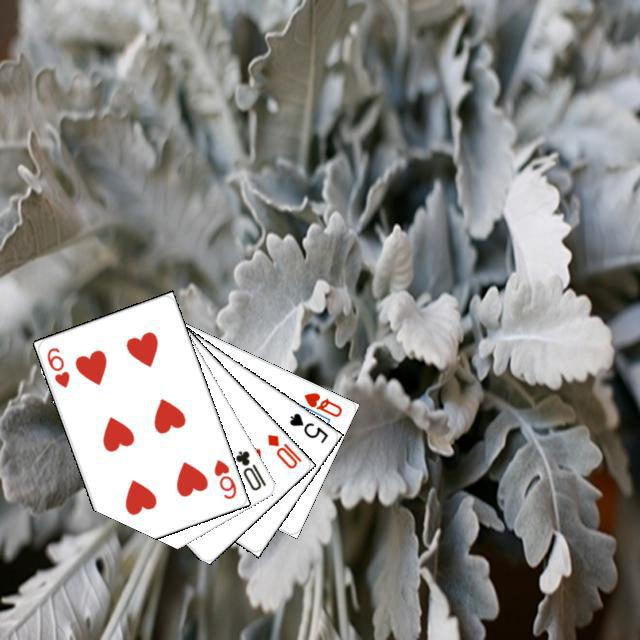10c: (230, 446, 268, 492)
10d: (262, 429, 303, 471)
5s: (284, 408, 330, 445)
6h: (209, 454, 238, 501), (42, 342, 71, 389)
Qh: (299, 387, 344, 419)
